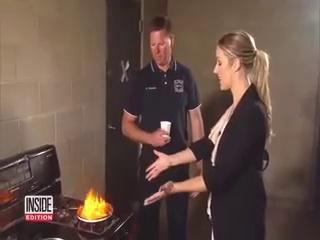Fire: (76, 190, 115, 222)
